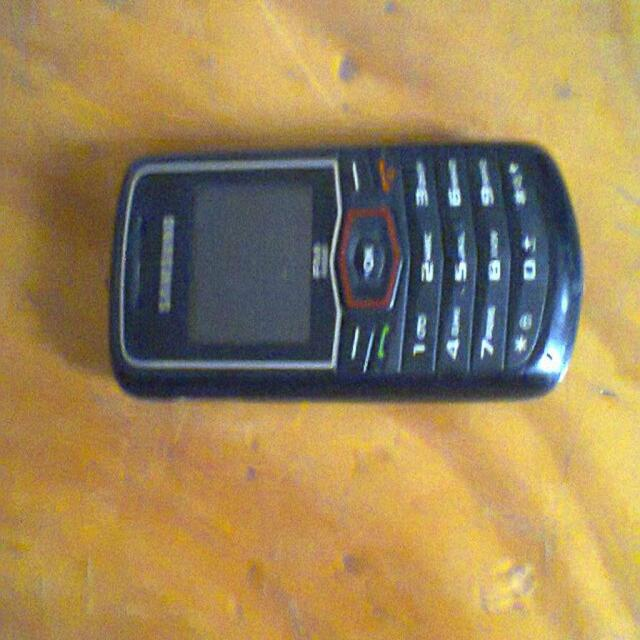Phone: (108, 141, 584, 406)
